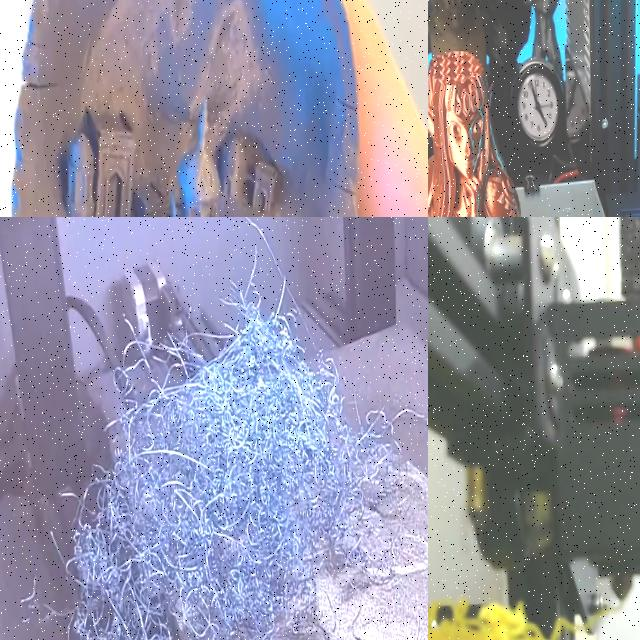spaghetti: (0, 255, 428, 640), (587, 608, 608, 627)
